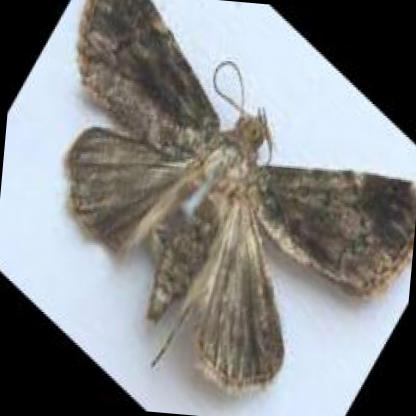Leaf Webber: (53, 0, 416, 400)
